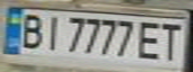7: (115, 17, 139, 59), (60, 15, 84, 53), (97, 16, 118, 56), (81, 15, 100, 55)
B: (15, 10, 48, 49)
E: (136, 18, 166, 61)
I: (39, 12, 66, 51)
T: (154, 20, 187, 61)
